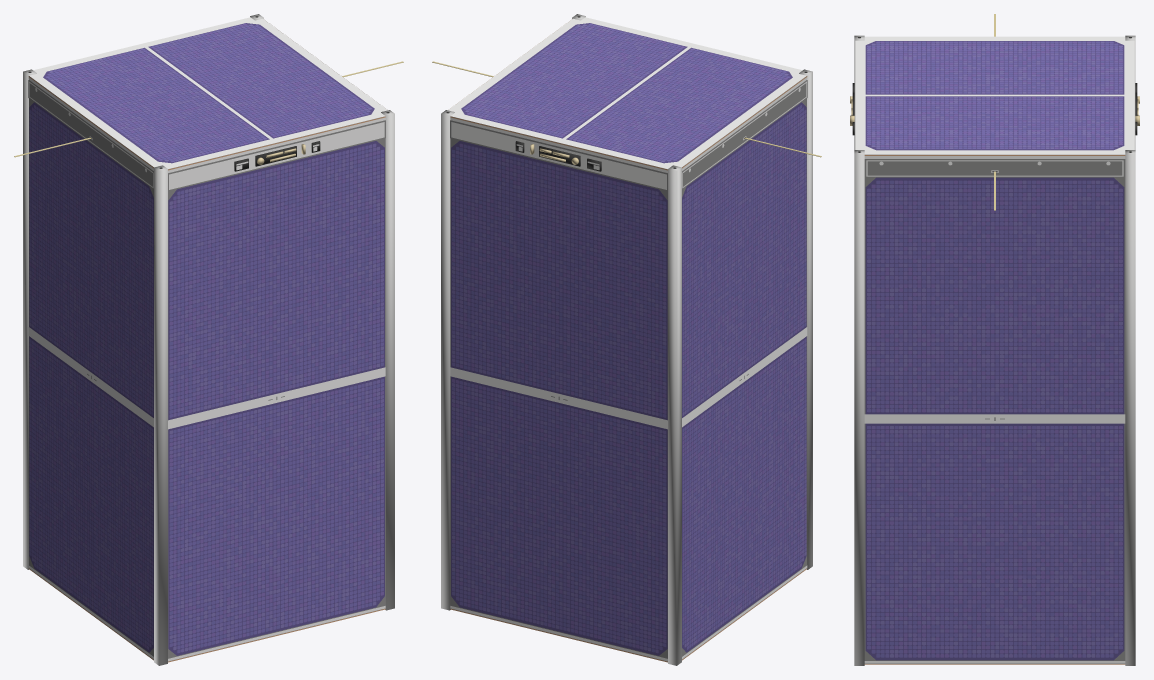
The model's file is 16U_CubeSat.glb.
The picture shows the model from 3 angles, left to right: view 1: azimuth 30°, elevation 25°; view 2: azimuth 150°, elevation 25°; view 3: azimuth 270°, elevation 25°; orthographic projection. The views are drawn at different scales.
Visible parts, largest first — view 1: Face -Y, Face -X, Top end, Corner rail, Corner rail.002, Corner rail.001; view 2: Face +Y, Face -X, Top end, Corner rail.001, Corner rail.003, Corner rail; view 3: Face +X, Top end, Corner rail.002, Corner rail.003.
Part boxes in pixels (x1,y1,x2,y2): Face -Y: (168,116,385,662); Face -X: (28,76,153,660); Top end: (29,17,387,168); Corner rail: (154,165,167,665); Corner rail.002: (381,110,394,610); Corner rail.001: (23,69,36,569); Face +Y: (450,116,667,662); Face -X: (682,76,807,660); Top end: (448,17,806,168); Corner rail.001: (668,165,681,665); Corner rail.003: (441,110,454,610); Corner rail: (799,69,812,569); Face +X: (864,155,1125,664); Top end: (855,36,1134,154); Corner rail.002: (854,150,864,665); Corner rail.003: (1125,150,1135,665).
Size of the model in its own units: 0.3731 by 0.4538 by 0.2329.
